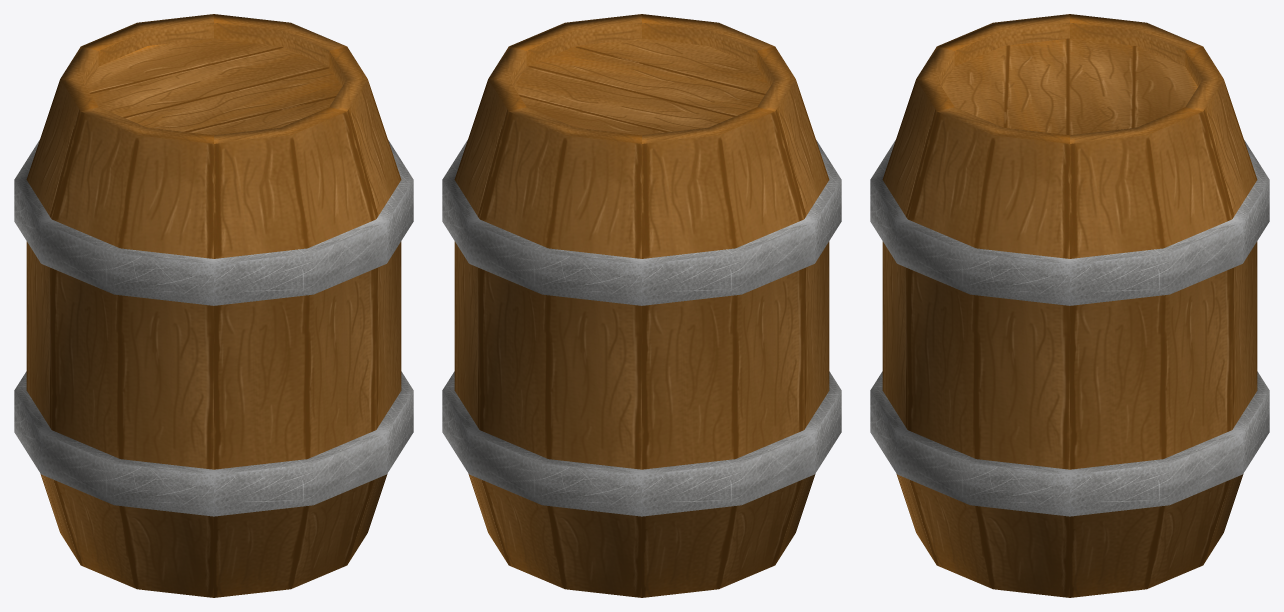
File: Barrel.fbx
3 views of the same model, side by side, from view 1: azimuth 30°, elevation 25°; view 2: azimuth 150°, elevation 25°; view 3: azimuth 270°, elevation 25° (orthographic).
Visible parts, largest first — view 1: Barrel; view 2: Barrel; view 3: Barrel.
Boxes of the visible parts, x1=… form: Barrel: x1=14, y1=14, x2=413, y2=597; Barrel: x1=442, y1=14, x2=841, y2=597; Barrel: x1=870, y1=14, x2=1269, y2=597.
Bounding box in the file's own units: 92.36 × 116 × 92.36.
